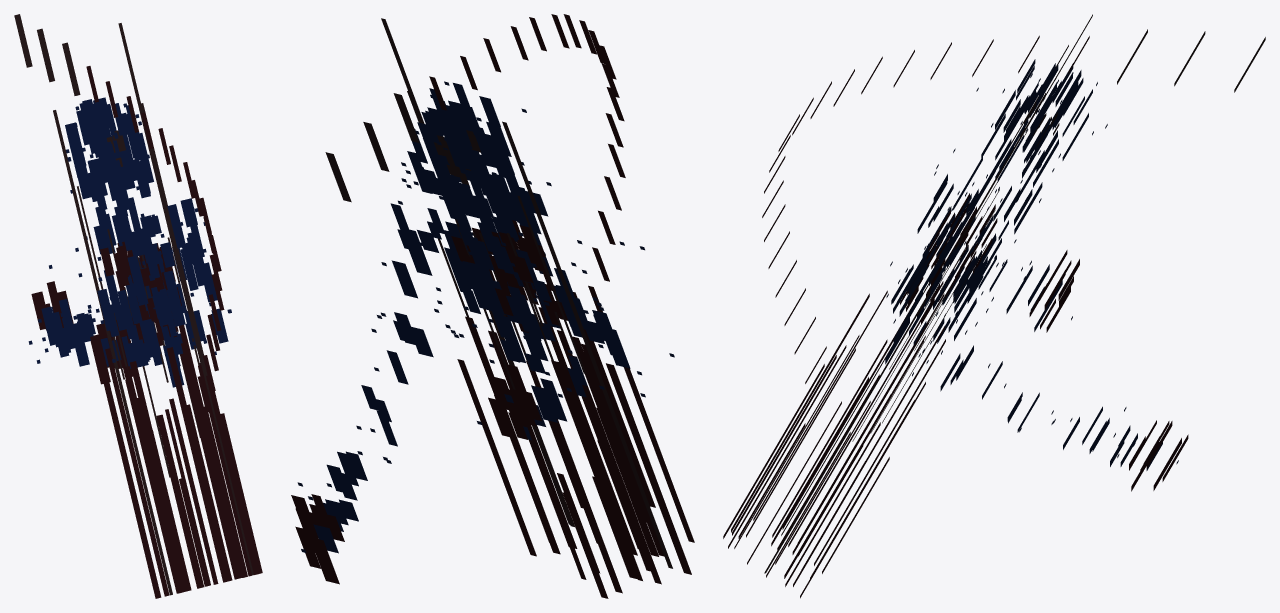
The model's file is black_ice_scorpion.glb.
3 renders of one model, left to right at view 1: azimuth 30°, elevation 25°; view 2: azimuth 150°, elevation 25°; view 3: azimuth 270°, elevation 25°, orthographic. The views are drawn at different scales.
Visible parts, largest first — view 1: black_ice_scorpion_inner, black_ice_scorpion_shell, black_ice_scorpion_dust; view 2: black_ice_scorpion_inner, black_ice_scorpion_shell, black_ice_scorpion_dust; view 3: black_ice_scorpion_inner, black_ice_scorpion_shell, black_ice_scorpion_dust.
Boxes of the visible parts, box(x1,y1,x2,y2) form: black_ice_scorpion_inner: box(14, 14, 262, 598); black_ice_scorpion_shell: box(41, 97, 228, 387); black_ice_scorpion_dust: box(28, 100, 231, 363); black_ice_scorpion_inner: box(291, 14, 694, 598); black_ice_scorpion_shell: box(313, 83, 630, 553); black_ice_scorpion_dust: box(297, 81, 674, 552); black_ice_scorpion_inner: box(723, 14, 1265, 598); black_ice_scorpion_shell: box(885, 59, 1162, 470); black_ice_scorpion_dust: box(886, 72, 1178, 464).
Bounding box in the file's own units: 1.41 × 3.12 × 2.62.
